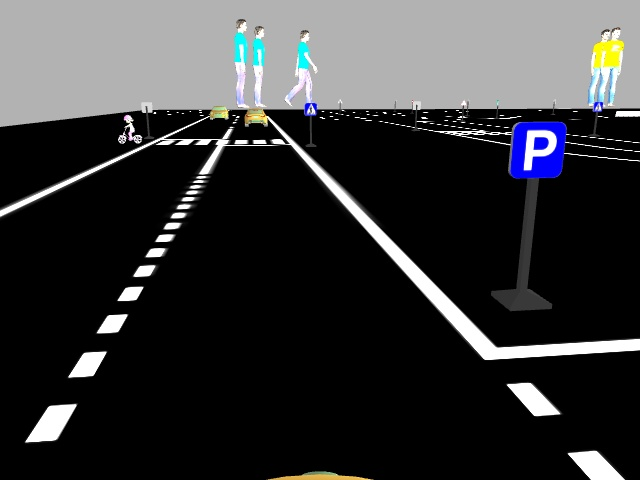Parking: (508, 118, 568, 185)
